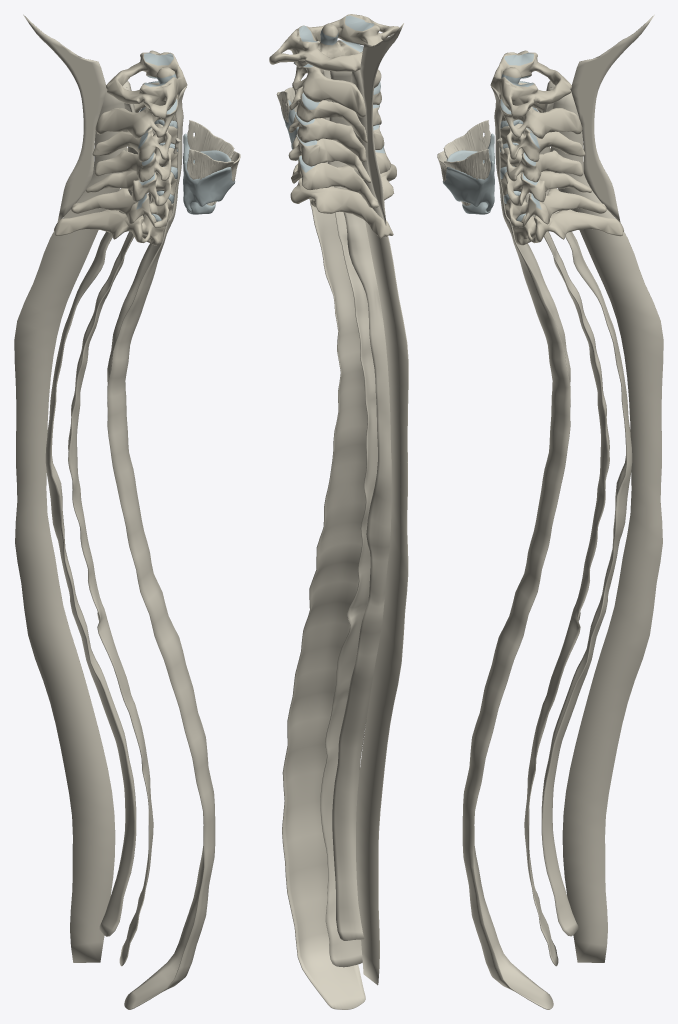
Rendered from detail-skeletal-neck.glb.
3 views of the same model, side by side, from view 1: azimuth 90°, elevation 25°; view 2: azimuth 210°, elevation 25°; view 3: azimuth 270°, elevation 25° (orthographic). The views are drawn at different scales.
Parts seen in each view (by area): view 1: za-cdcd714581b8ccdf, za-a3e8f6d97e3a95dc, za-d5b4d41410d07c44, za-d3d9ed7aa2811b2a, za-a5e6d90d77b96d47, za-7fb5720fb1239ed9, za-63fa4563c47f6b2f, za-fcd977845f4183e5, za-9cf0878d5d75e918, za-8a947f4284315cbe, za-bff9085efefcb3fb, za-dc49017304bfab11 (+3 smaller); view 2: za-a3e8f6d97e3a95dc, za-cdcd714581b8ccdf, za-d5b4d41410d07c44, za-d3d9ed7aa2811b2a, za-7fb5720fb1239ed9, za-fcd977845f4183e5, za-63fa4563c47f6b2f, za-a5e6d90d77b96d47, za-8a947f4284315cbe, za-dc49017304bfab11, za-bff9085efefcb3fb, za-3e0eee8778a5f234; view 3: za-cdcd714581b8ccdf, za-a3e8f6d97e3a95dc, za-d5b4d41410d07c44, za-d3d9ed7aa2811b2a, za-a5e6d90d77b96d47, za-7fb5720fb1239ed9, za-63fa4563c47f6b2f, za-fcd977845f4183e5, za-9cf0878d5d75e918, za-8a947f4284315cbe, za-bff9085efefcb3fb, za-dc49017304bfab11 (+3 smaller).
Boxes of the visible parts, x1,y1,x2,y2 form: za-cdcd714581b8ccdf: (14, 87, 127, 962); za-a3e8f6d97e3a95dc: (107, 85, 215, 1009); za-d5b4d41410d07c44: (45, 81, 138, 936); za-d3d9ed7aa2811b2a: (68, 129, 156, 966); za-a5e6d90d77b96d47: (23, 14, 106, 222); za-7fb5720fb1239ed9: (106, 50, 187, 119); za-63fa4563c47f6b2f: (54, 209, 165, 245); za-fcd977845f4183e5: (95, 67, 178, 138); za-9cf0878d5d75e918: (183, 133, 235, 211); za-8a947f4284315cbe: (71, 188, 173, 227); za-bff9085efefcb3fb: (94, 127, 177, 182); za-dc49017304bfab11: (85, 150, 177, 206); za-a3e8f6d97e3a95dc: (282, 41, 367, 1009); za-cdcd714581b8ccdf: (349, 69, 408, 985); za-d5b4d41410d07c44: (328, 71, 391, 940); za-d3d9ed7aa2811b2a: (320, 69, 377, 967); za-7fb5720fb1239ed9: (269, 14, 399, 71); za-fcd977845f4183e5: (292, 23, 381, 117); za-63fa4563c47f6b2f: (290, 164, 396, 238); za-a5e6d90d77b96d47: (360, 23, 403, 225); za-8a947f4284315cbe: (291, 144, 390, 207); za-dc49017304bfab11: (288, 125, 384, 183); za-bff9085efefcb3fb: (288, 104, 381, 161); za-3e0eee8778a5f234: (289, 82, 381, 142); za-cdcd714581b8ccdf: (550, 87, 663, 962); za-a3e8f6d97e3a95dc: (462, 85, 570, 1009); za-d5b4d41410d07c44: (539, 80, 632, 936); za-d3d9ed7aa2811b2a: (521, 129, 609, 966); za-a5e6d90d77b96d47: (571, 14, 654, 222); za-7fb5720fb1239ed9: (490, 50, 571, 119); za-63fa4563c47f6b2f: (512, 209, 623, 245); za-fcd977845f4183e5: (499, 67, 582, 138); za-9cf0878d5d75e918: (442, 133, 494, 211); za-8a947f4284315cbe: (504, 188, 606, 227); za-bff9085efefcb3fb: (500, 127, 583, 182); za-dc49017304bfab11: (500, 150, 592, 206).
Size of the model in its own units: 0.0861 by 0.6582 by 0.1362.
